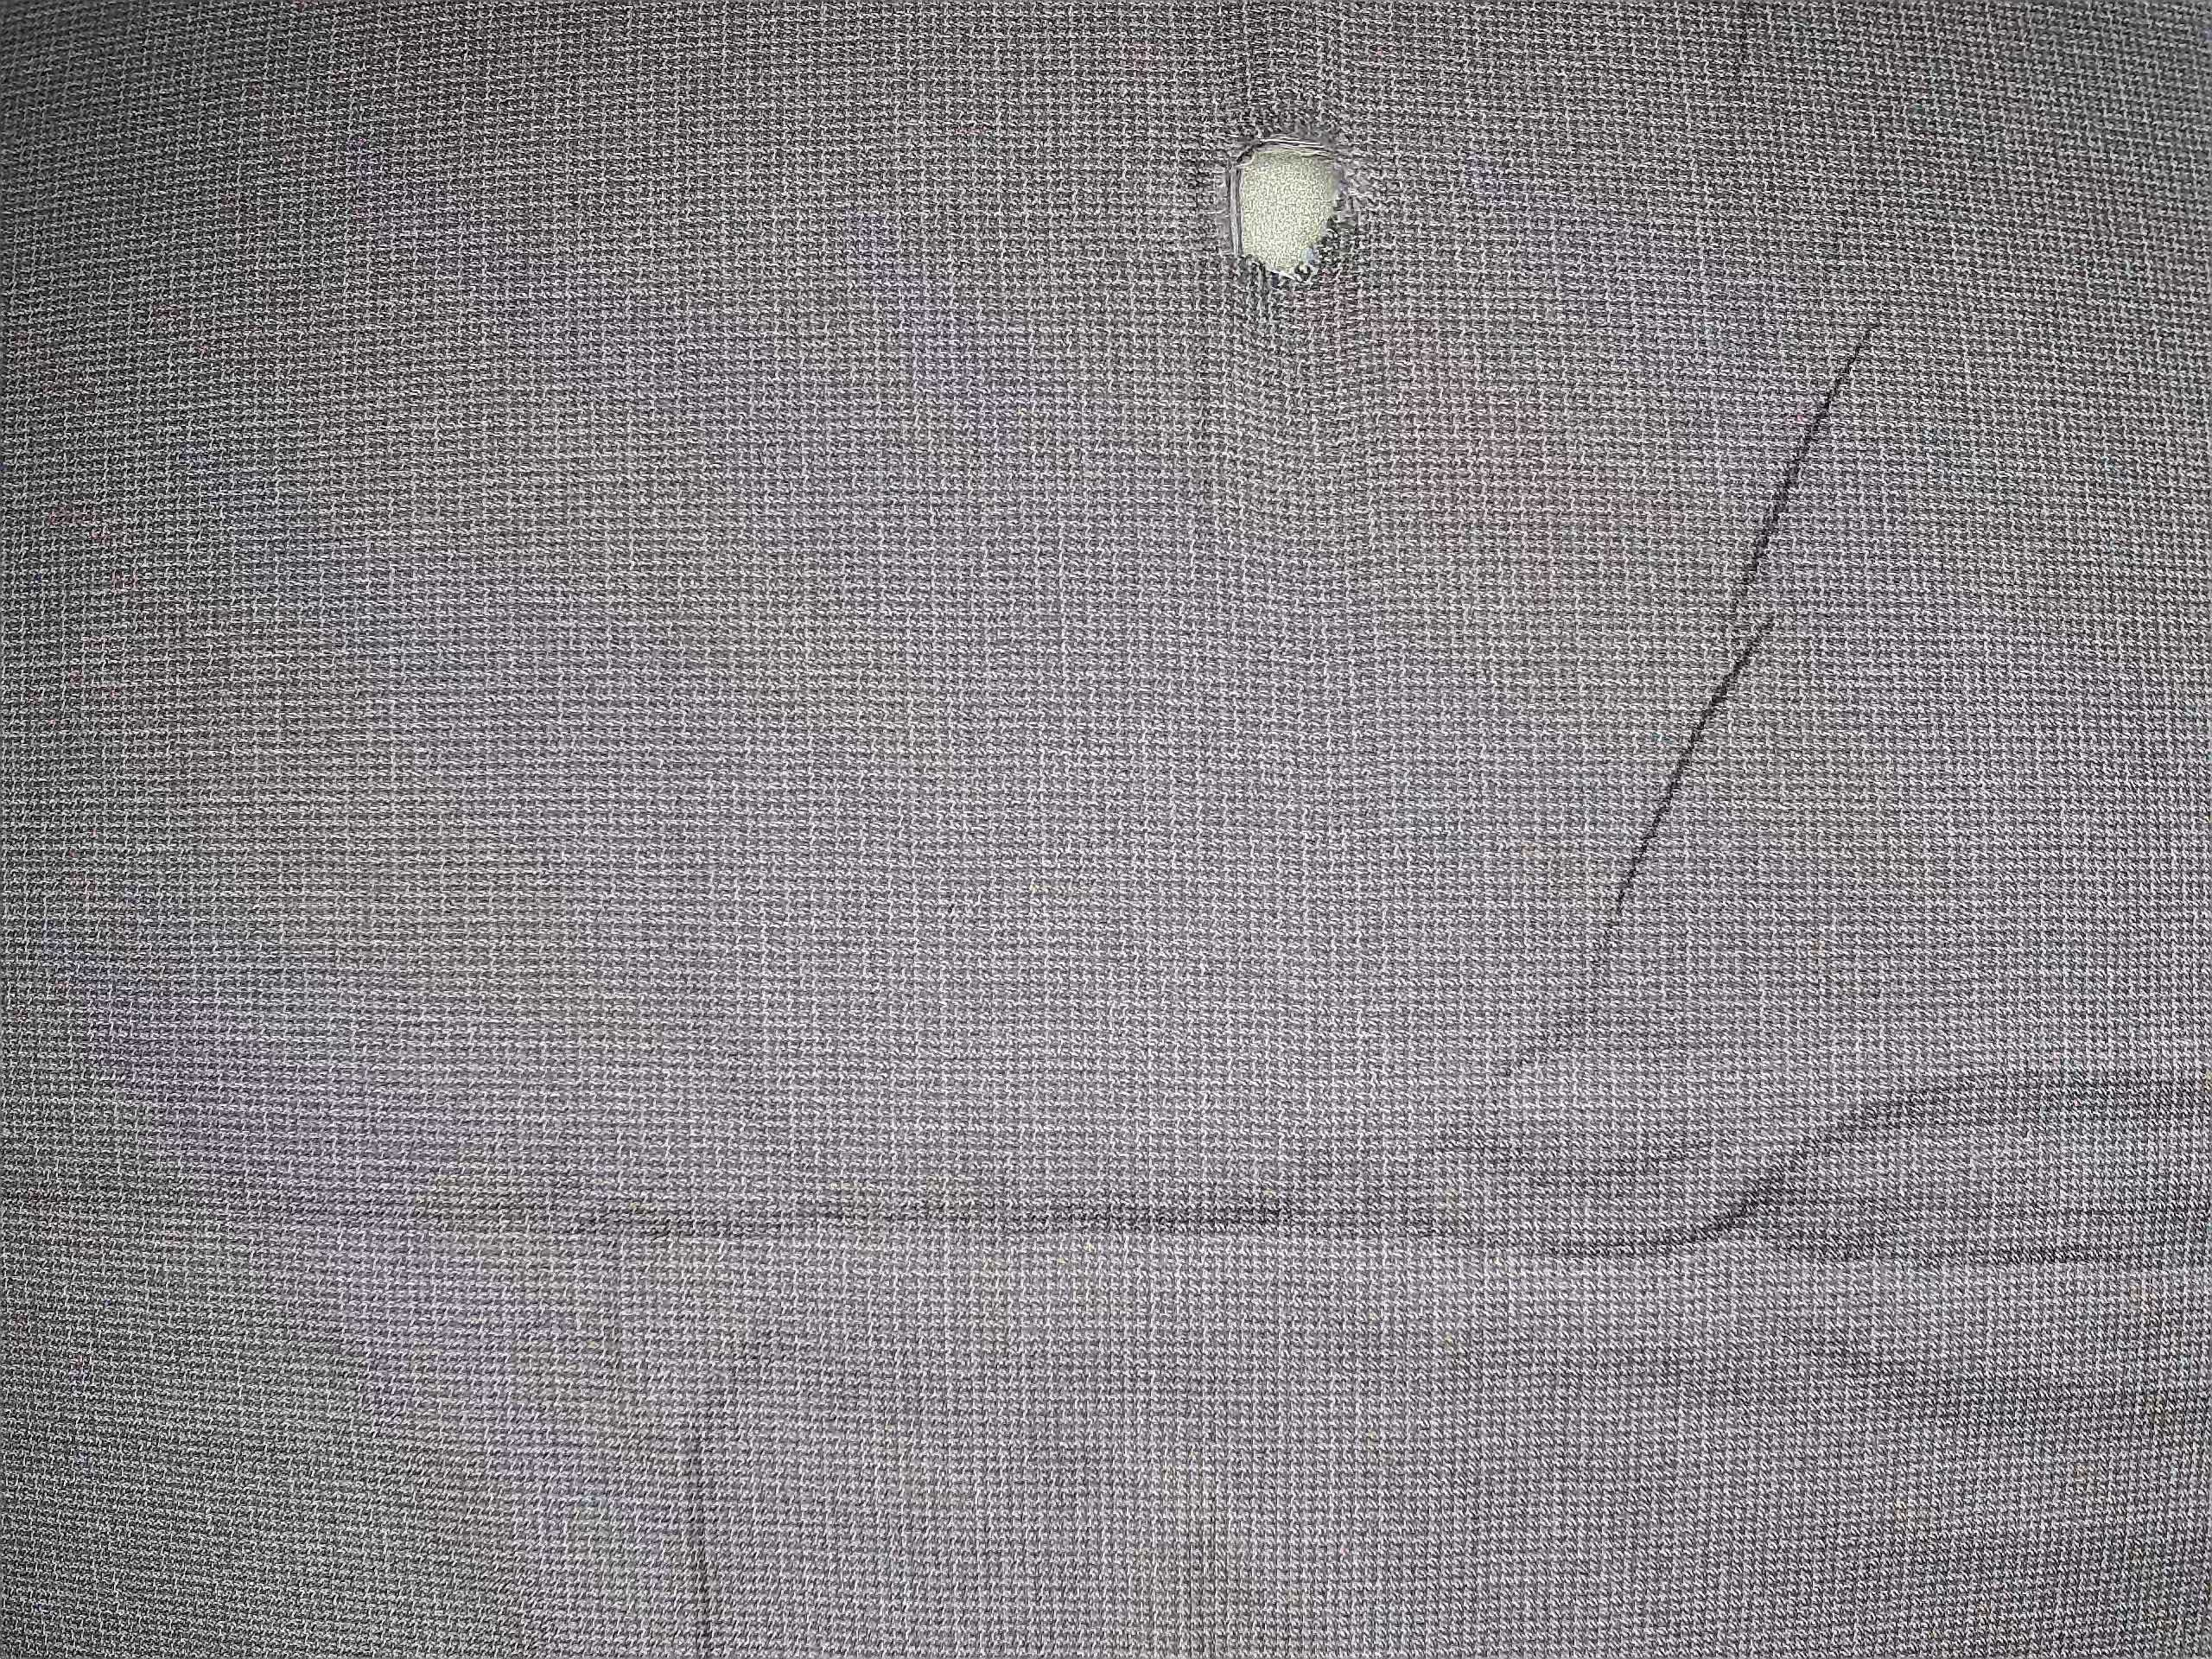rubbing-hole: (1193, 91, 1386, 308)
